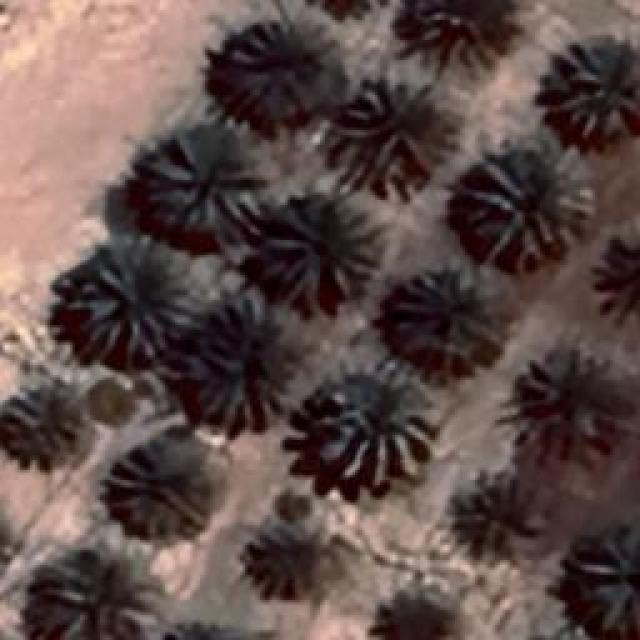PalmTree: (310, 360, 440, 488), (255, 188, 383, 308), (185, 300, 300, 432), (327, 72, 455, 190), (78, 235, 200, 355), (18, 542, 166, 640), (460, 144, 570, 268), (150, 127, 265, 230), (390, 260, 505, 360), (226, 30, 334, 125), (515, 342, 610, 448), (440, 468, 542, 562), (547, 35, 635, 140), (0, 374, 88, 478), (108, 440, 202, 535), (404, 0, 512, 80), (580, 522, 635, 636), (366, 586, 466, 640), (592, 229, 640, 332), (250, 529, 316, 594), (155, 617, 249, 640)
